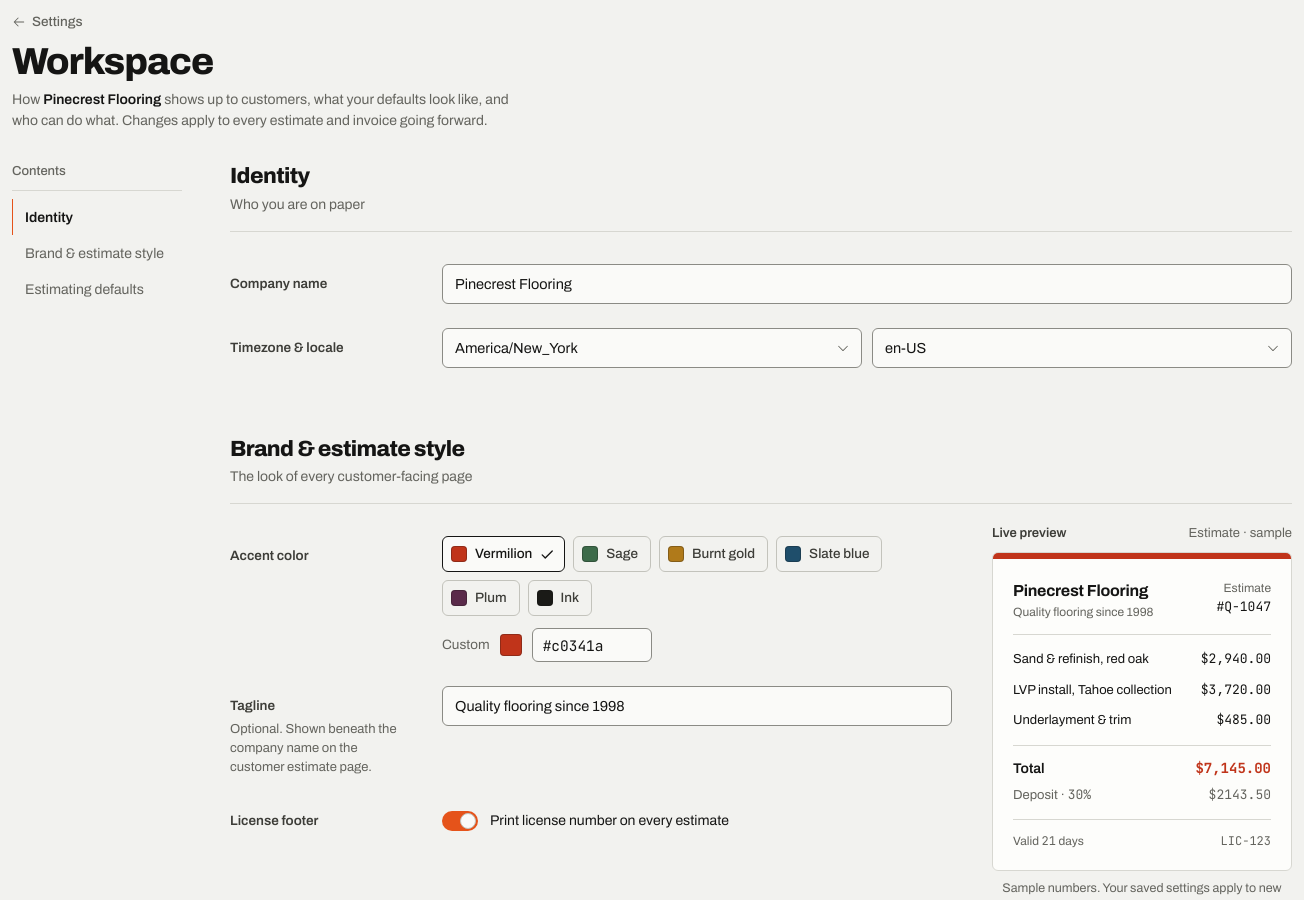
Scenario: WorkspaceSettingsView — dirty state › arms the save bar after an edit, and reset reverts the edit and disarms it
Replace the text in the field showing "Pinecrest Flooring" with "New Name Co": (867, 284) left=442, top=264, right=1292, bottom=304
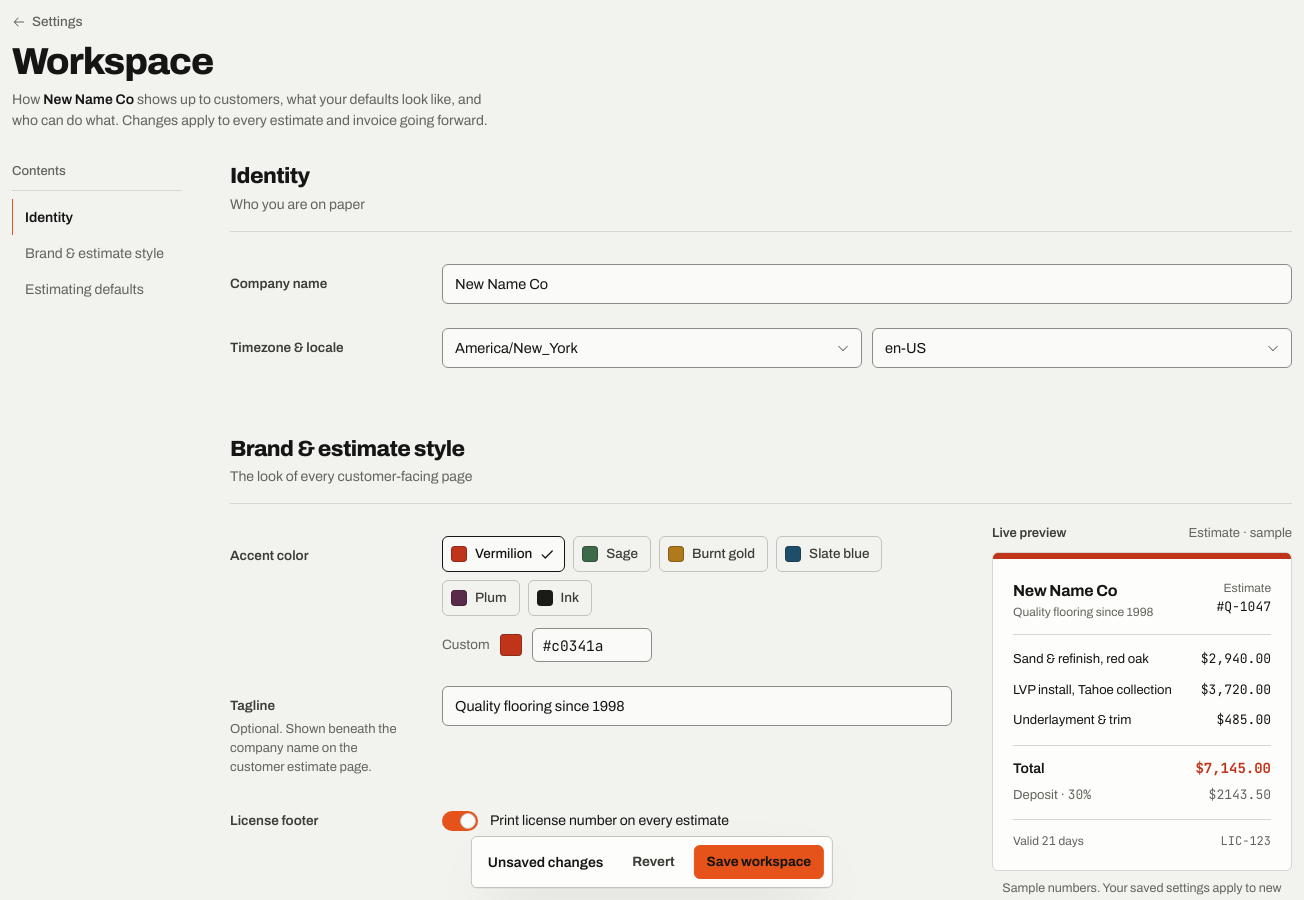
Click the button "Revert": click(654, 862) left=619, top=845, right=688, bottom=879
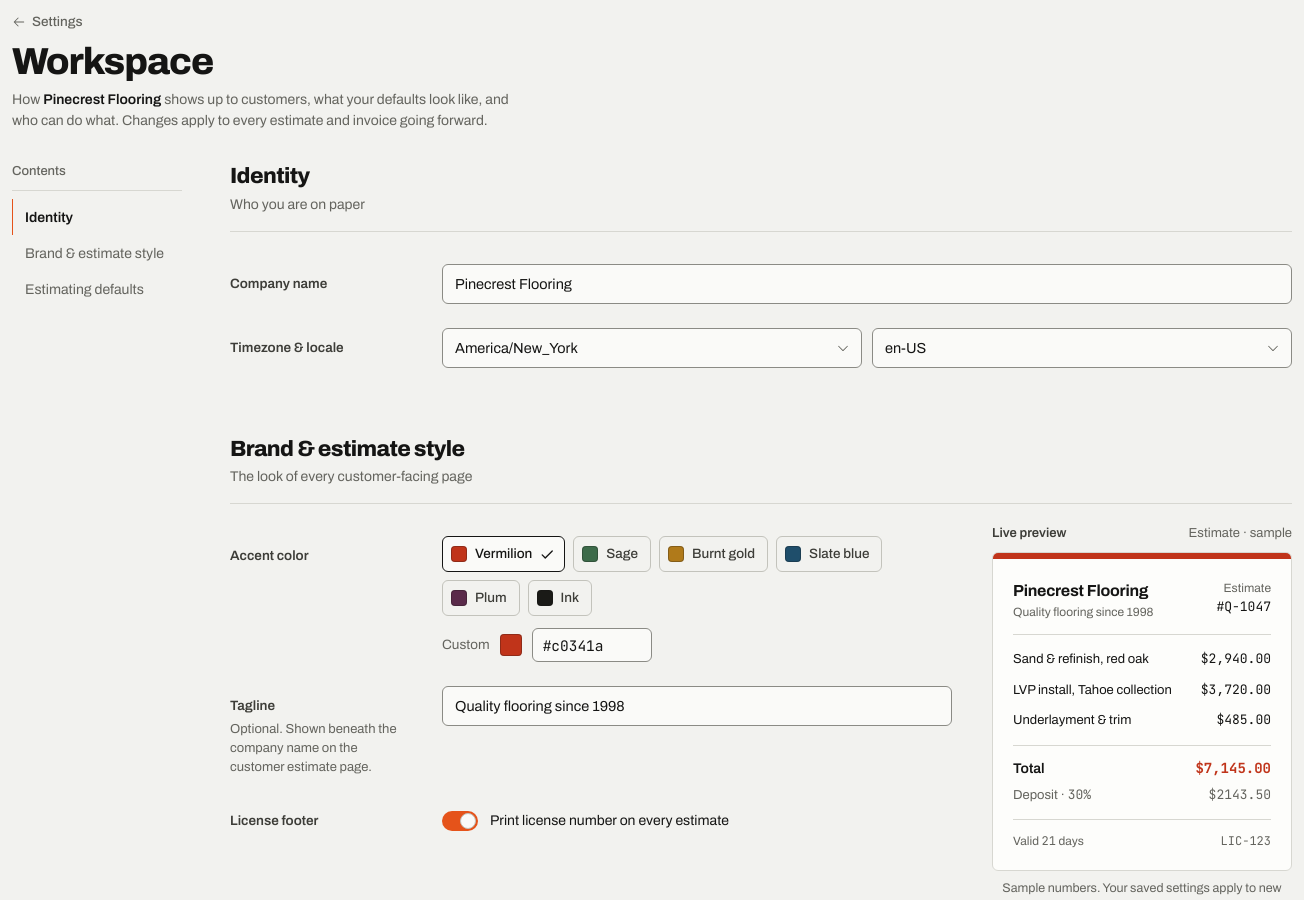
Expected: the field showing "Pinecrest Flooring" holds "Pinecrest Flooring", left=442, top=264, right=1292, bottom=304
